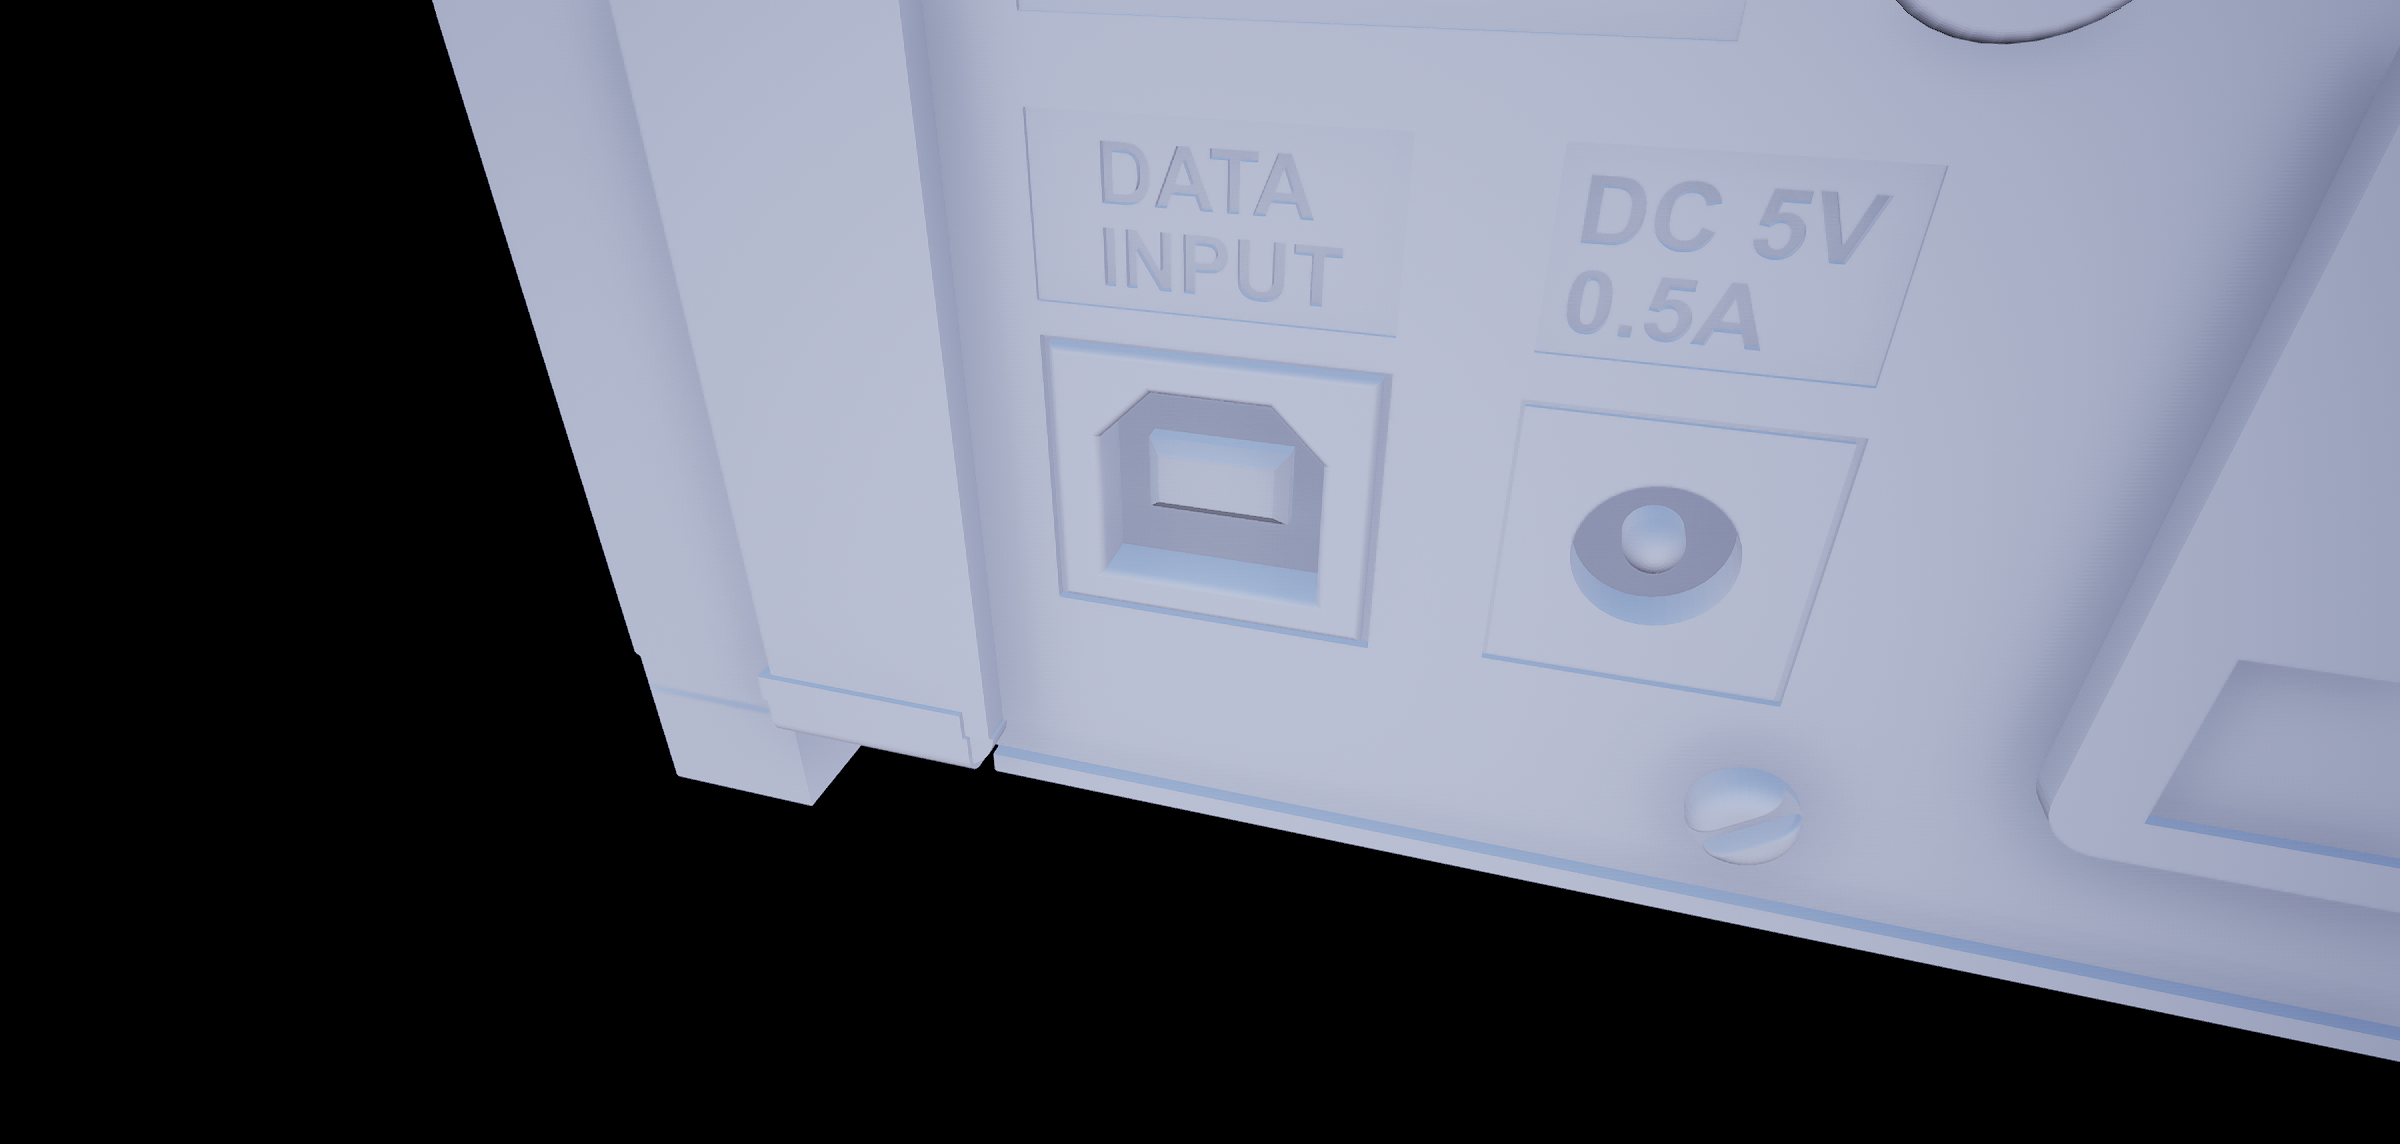dc: (1564, 469, 1759, 646)
usb: (1090, 371, 1335, 619)
